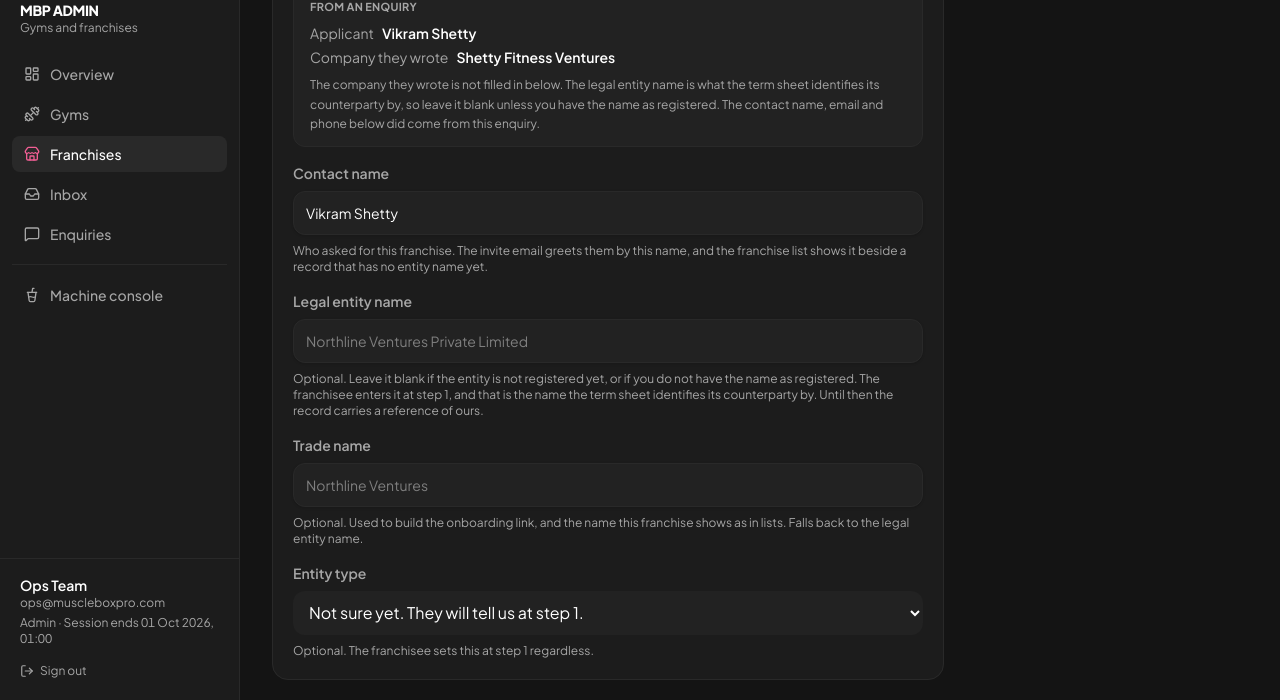
AdminInviteFranchise, arriving from an enquiry › sends the application id with the invite, so the two are not counted twice
(page scrolled)
Type "Shetty Fitness Ventures LLP" into the field with test id "input-legalEntityName" at coordinates (608, 340), box [293,318,923,362]
(page scrolled)
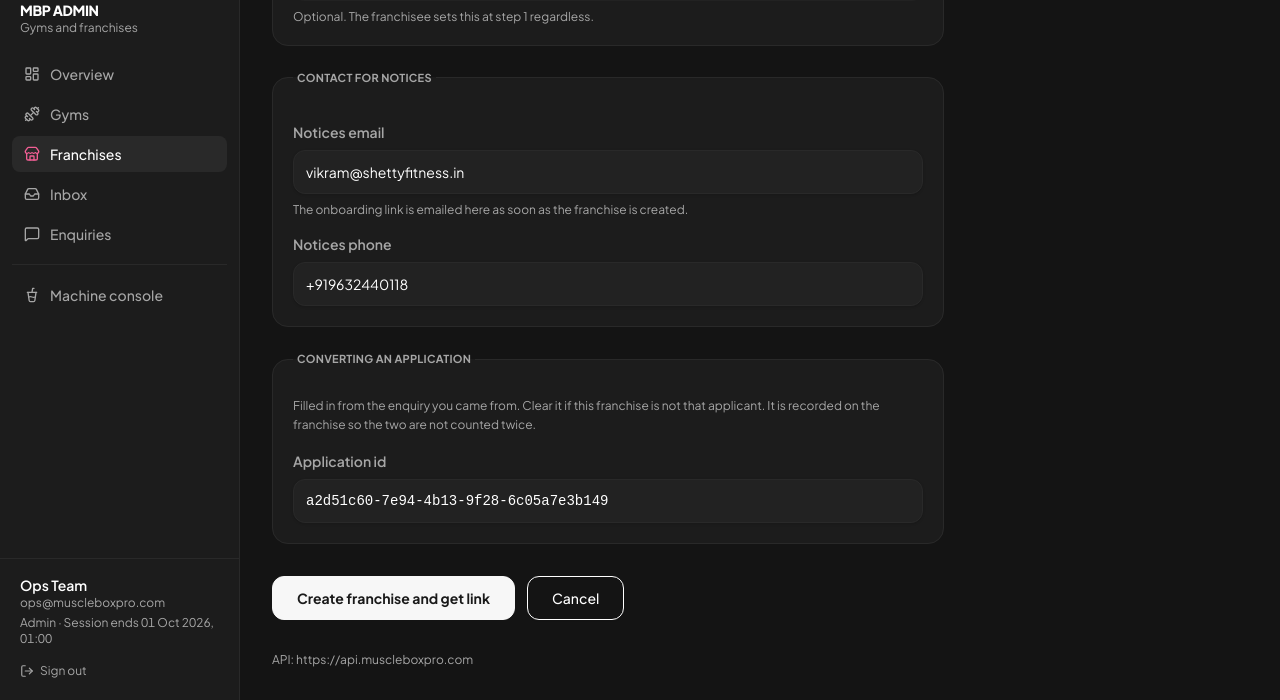
Click the button with test id "button-create-franchise" at coordinates (394, 598), box [272,576,515,620]
(page scrolled)
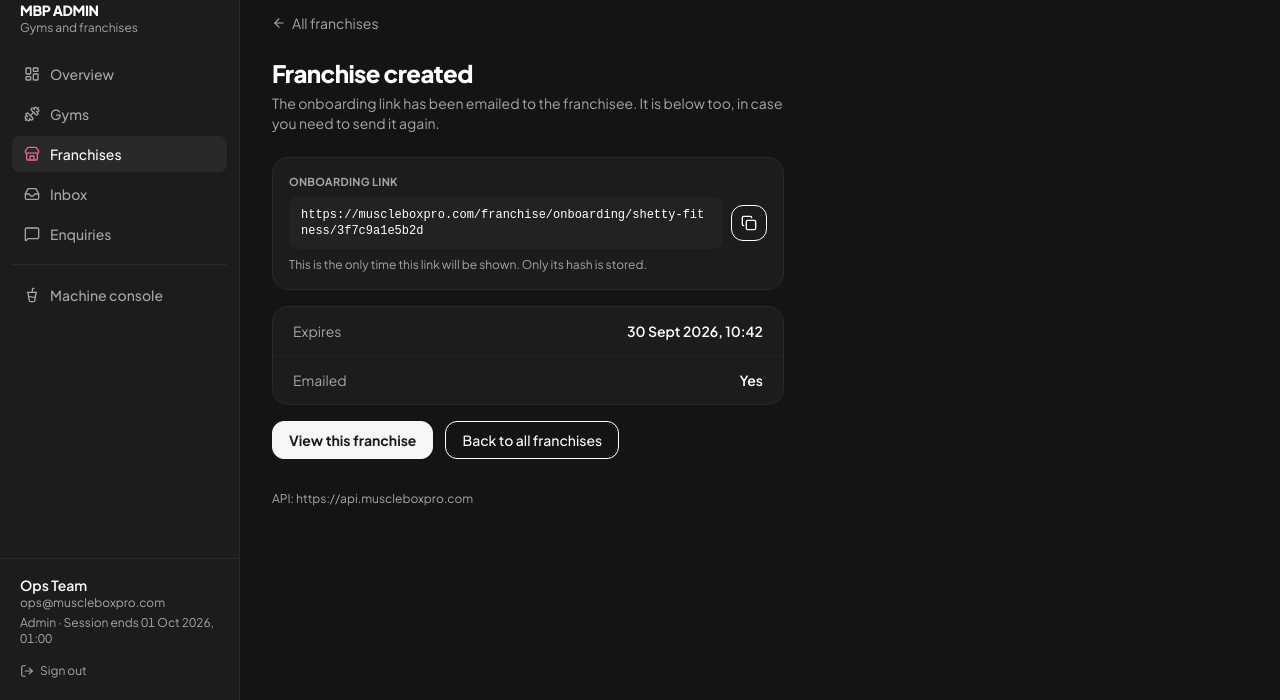
Check: the element with test id "franchise-invite-created" is shown, box [272,57,784,458]
